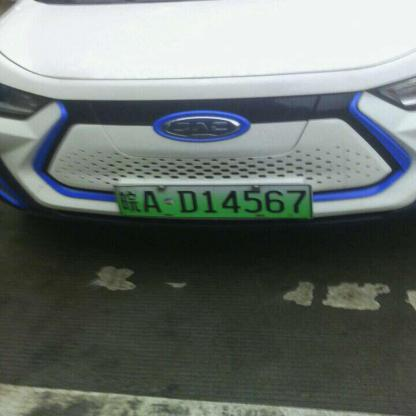lp: (112, 185, 316, 217)
